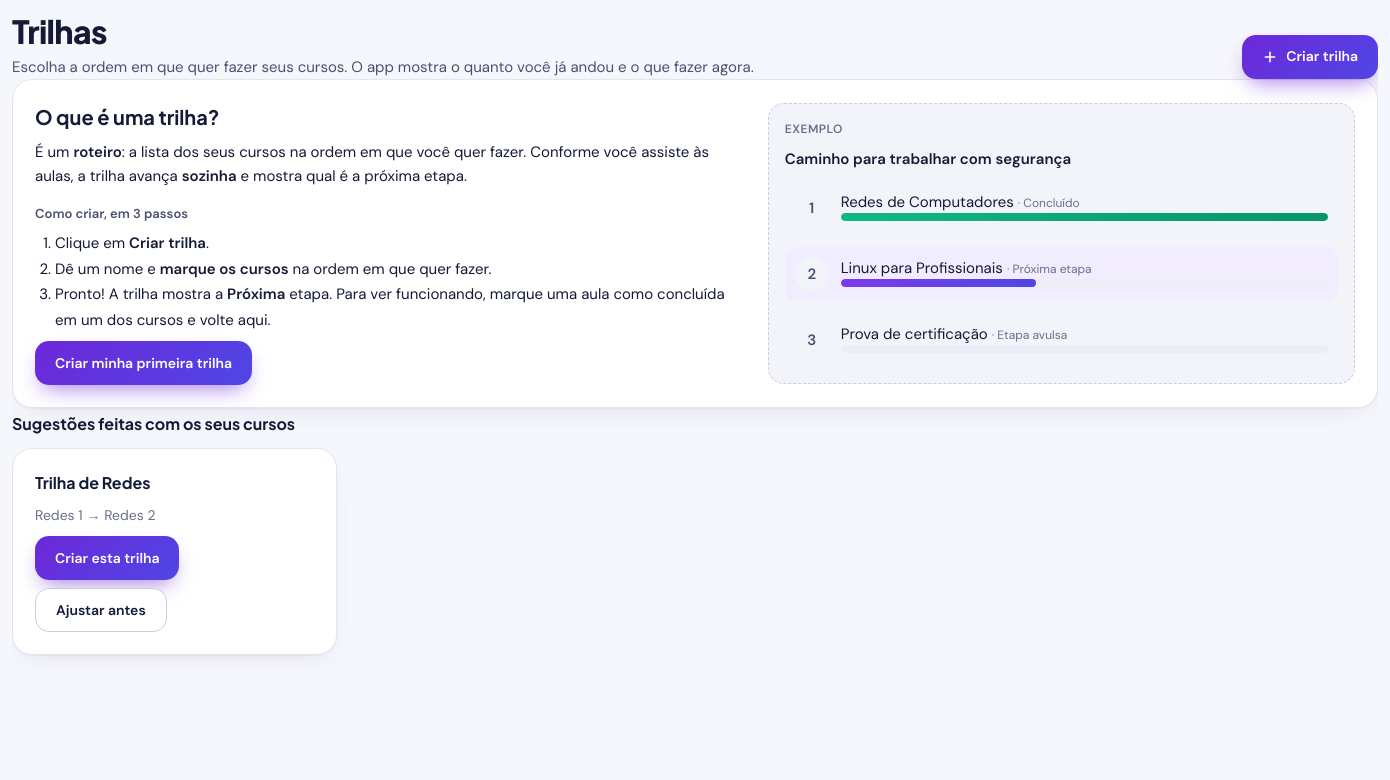
Test: Trilhas · lista › erro ao criar pela sugestão aparece na tela
Click the button "Criar esta trilha" at (107, 558), box [35,536,180,580]
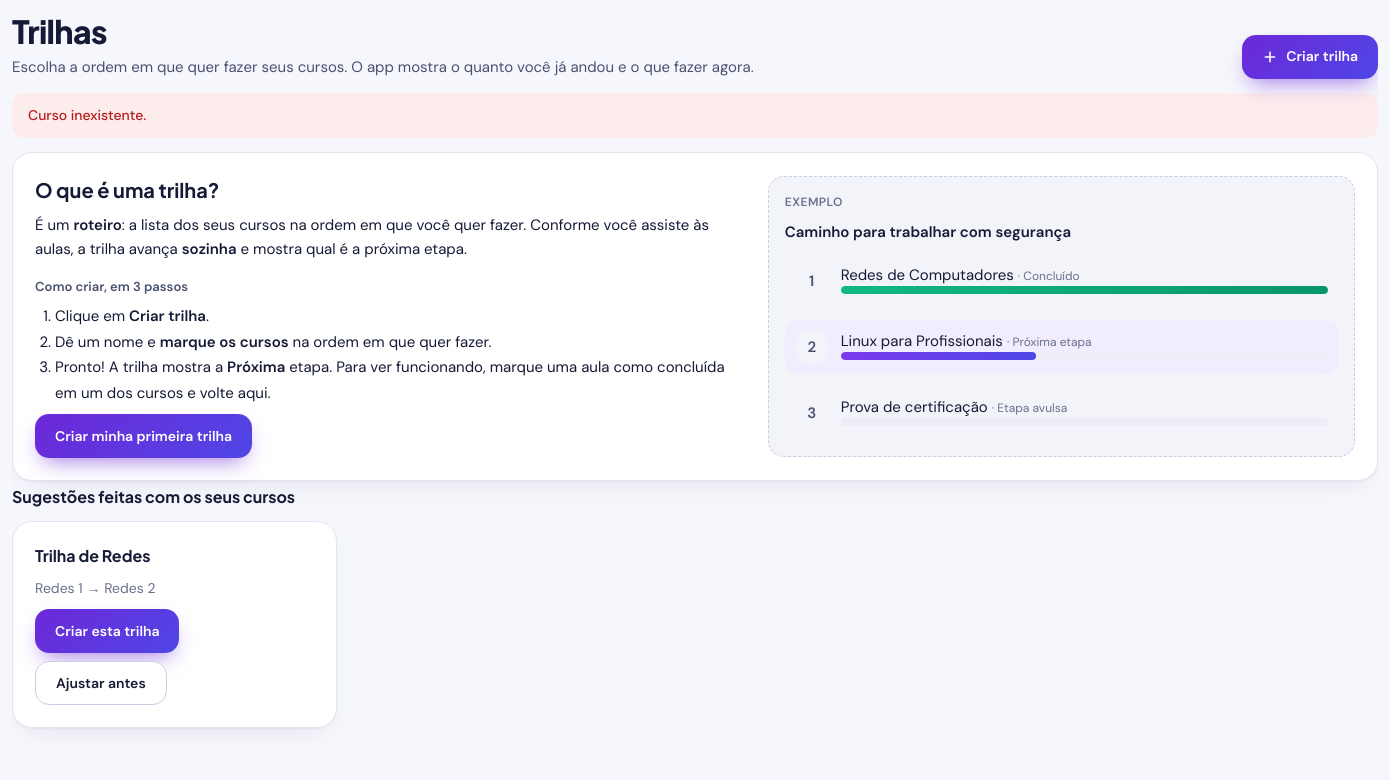
Expected: the message "Curso inexistente." is shown, [12,93,1378,138]
